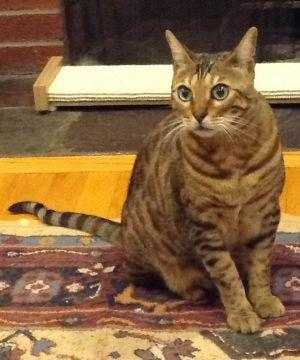bengal: (162, 23, 266, 143)
